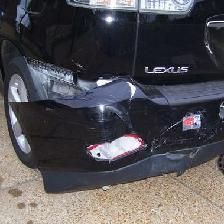bumper_dent: (53, 95, 213, 181)
